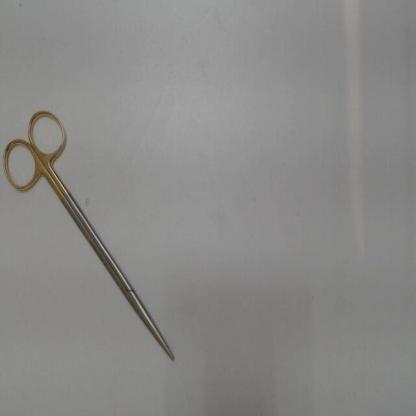7 Metzenbaum Scissors: (2, 106, 175, 362)
